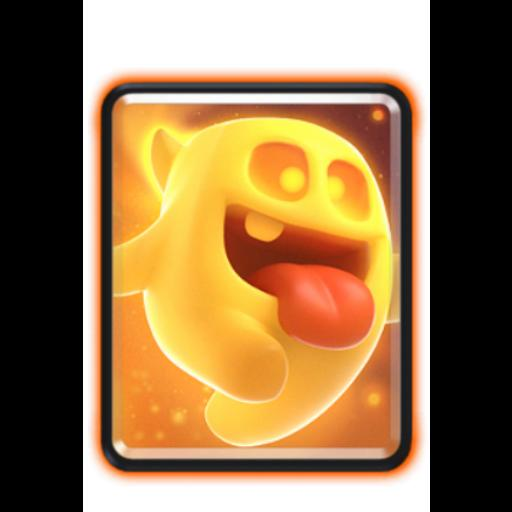heal-spirit: (118, 103, 398, 451)
